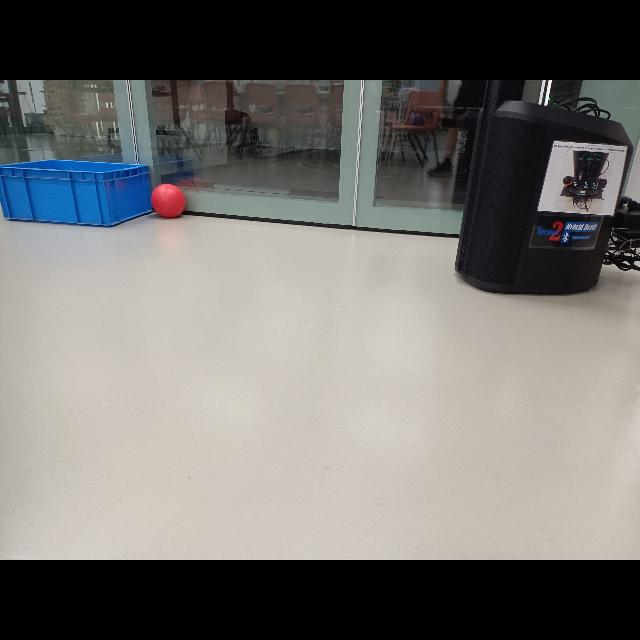R: (152, 182, 186, 218)
